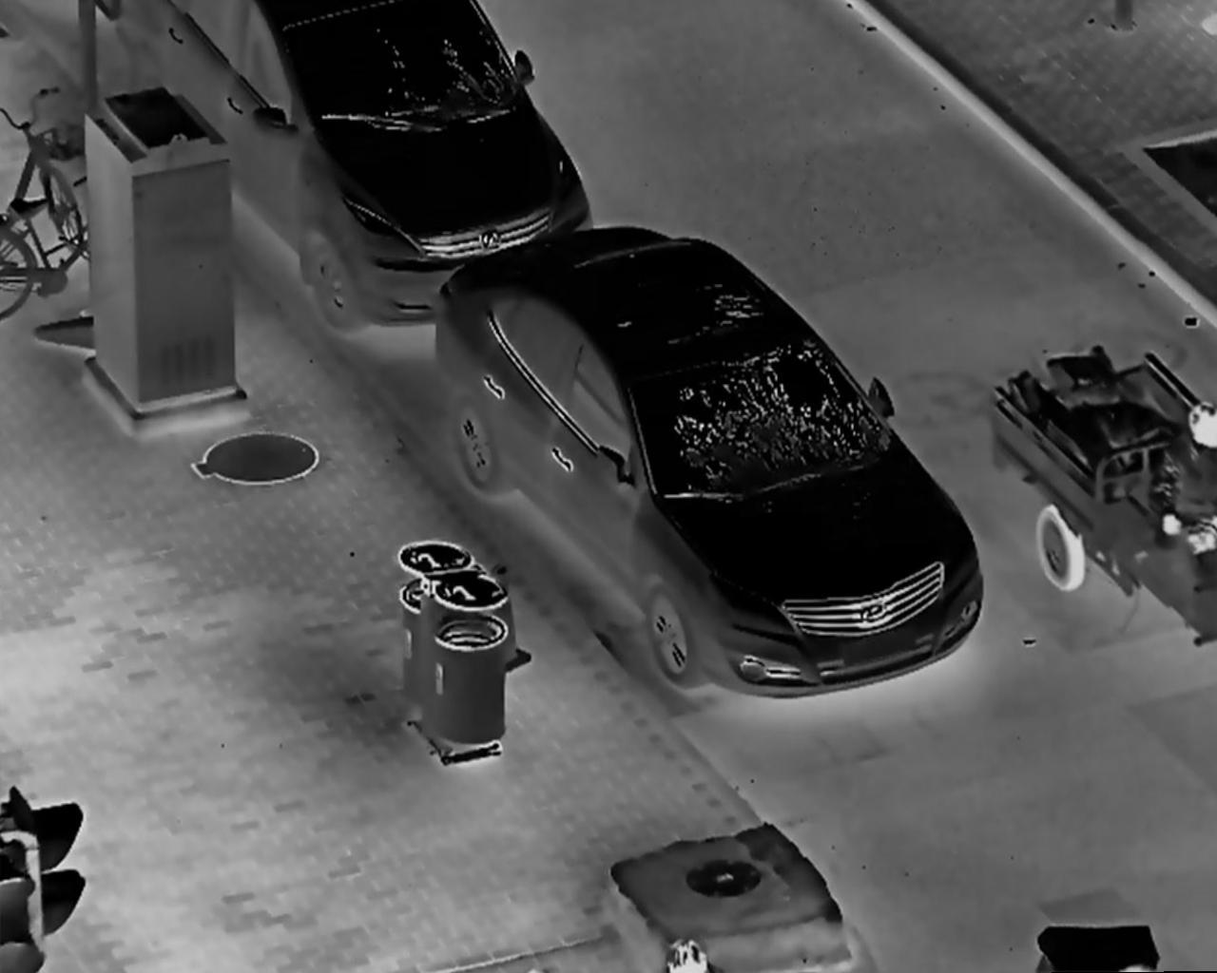person: (1163, 398, 1217, 604)
